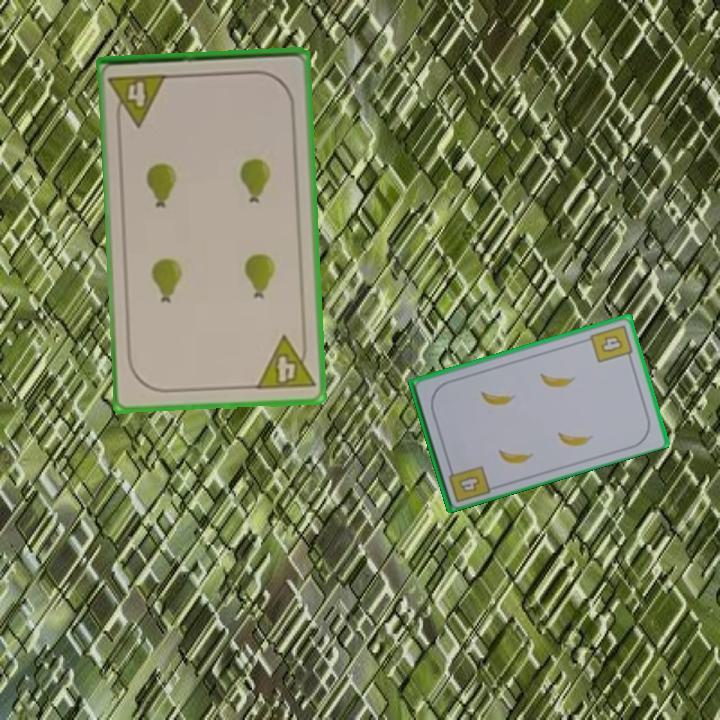4b: (586, 321, 635, 365), (445, 461, 493, 505)
4p: (252, 332, 317, 393), (105, 70, 170, 130)
